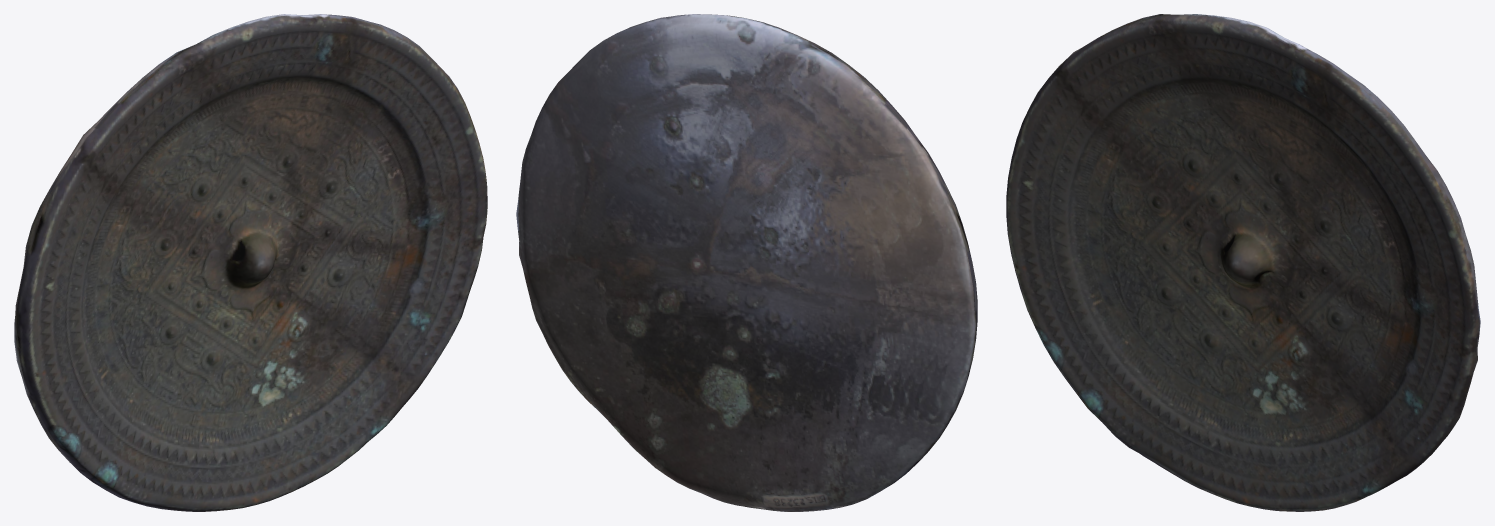
Rendered from guongdong.gltf.
3 renders of one model, left to right at view 1: azimuth 30°, elevation 25°; view 2: azimuth 150°, elevation 25°; view 3: azimuth 330°, elevation 25°, orthographic. The views are drawn at different scales.
Parts seen in each view (by area): view 1: Guongdong_SeamsColor.001; view 2: Guongdong_SeamsColor.001; view 3: Guongdong_SeamsColor.001.
Boxes of the visible parts, x1,y1,x2,y2 form: Guongdong_SeamsColor.001: (14, 14, 487, 511); Guongdong_SeamsColor.001: (516, 14, 977, 511); Guongdong_SeamsColor.001: (1006, 14, 1480, 511).
Bounding box in the file's own units: 40.87 × 40.82 × 3.49.
1 material, 1 textured.
